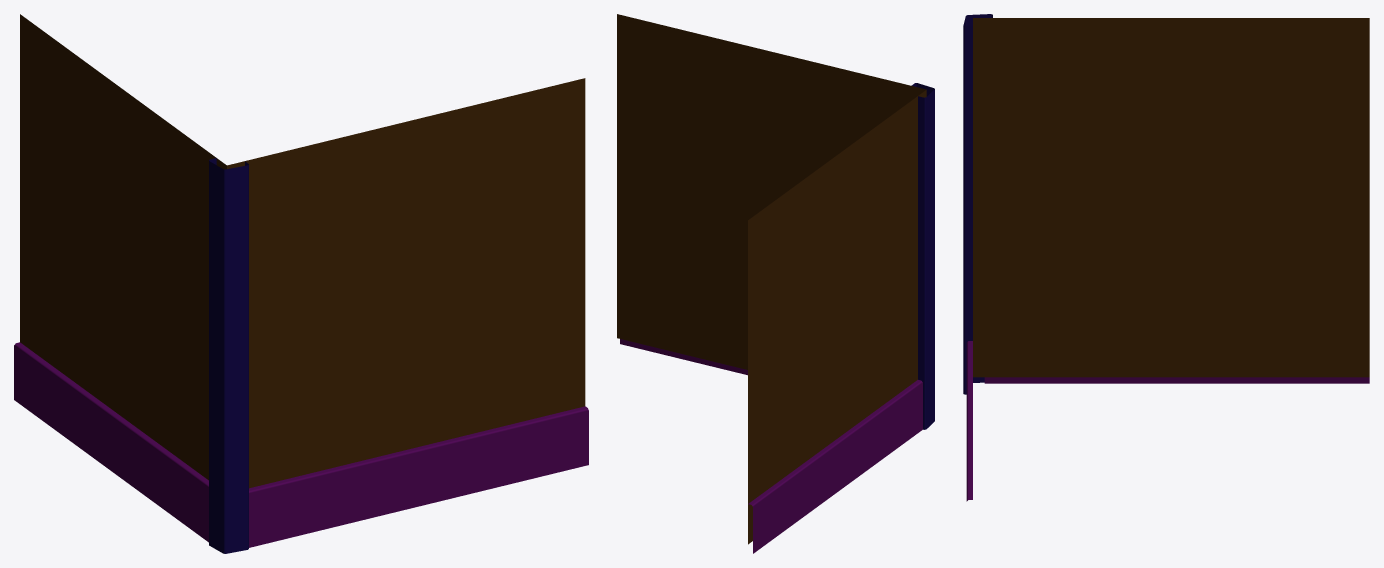
File: Building_Generic_09.FBX
3 views of the same model, side by side, from view 1: azimuth 30°, elevation 25°; view 2: azimuth 150°, elevation 25°; view 3: azimuth 270°, elevation 25° (orthographic). The views are drawn at different scales.
Visible parts, largest first — view 1: Building_Generic_09; view 2: Building_Generic_09; view 3: Building_Generic_09.
Boxes of the visible parts, bbox=[...] form: Building_Generic_09: bbox=[14, 14, 588, 553]; Building_Generic_09: bbox=[617, 14, 934, 553]; Building_Generic_09: bbox=[963, 14, 1369, 501].
Size of the model in its own units: 410 by 410 by 410.
